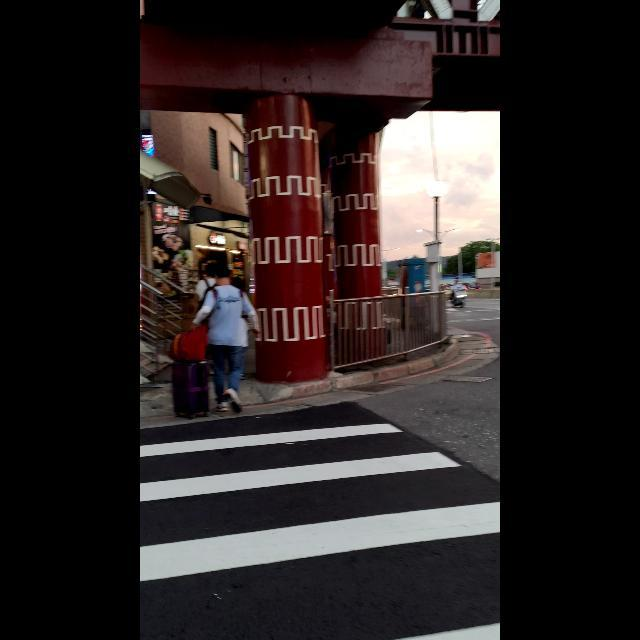sidewalk: (141, 397, 500, 640)
